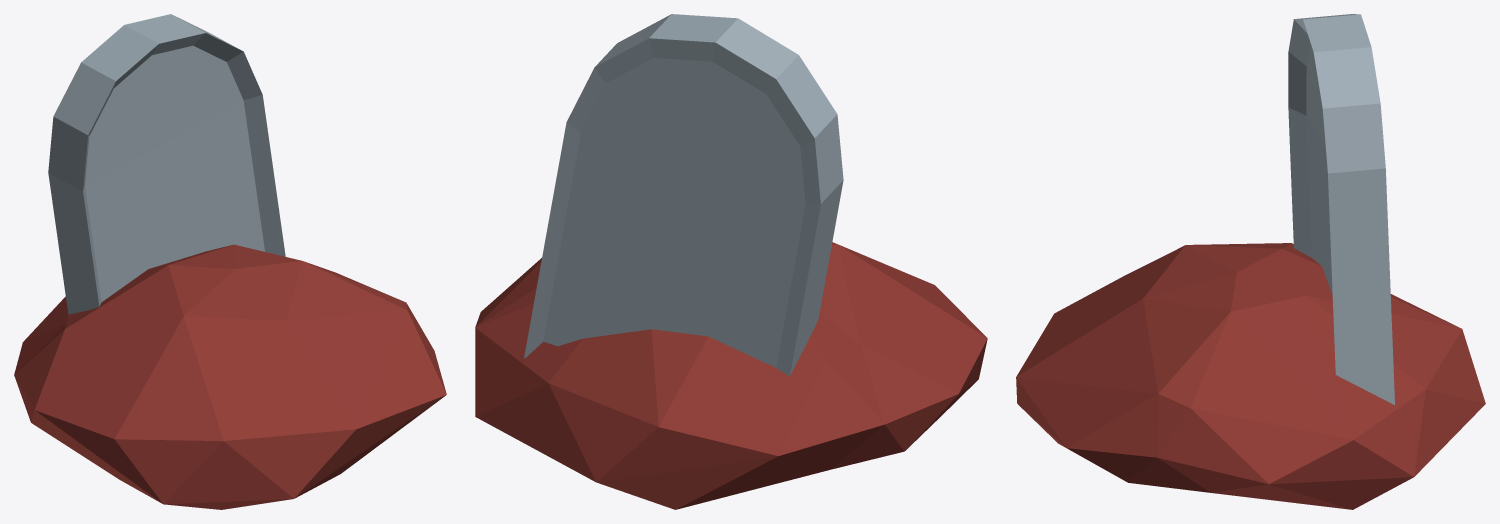
The model's file is C_Lapide2.fbx.
3 views of the same model, side by side, from view 1: azimuth 30°, elevation 25°; view 2: azimuth 150°, elevation 25°; view 3: azimuth 270°, elevation 25° (orthographic). The views are drawn at different scales.
Parts seen in each view (by area): view 1: Cylinder; view 2: Cylinder; view 3: Cylinder.
Boxes of the visible parts, bbox=[...] form: Cylinder: bbox=[14, 14, 446, 509]; Cylinder: bbox=[475, 14, 987, 509]; Cylinder: bbox=[1016, 14, 1485, 509].
Bounding box in the file's own units: 436 × 406 × 423.
